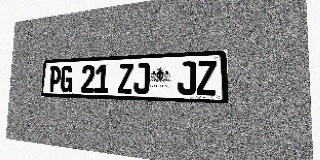1: (94, 64, 109, 93)
2: (81, 65, 95, 93)
G: (60, 66, 73, 92)
J: (177, 61, 196, 95), (133, 63, 150, 94)
P: (49, 66, 61, 92)
Z: (197, 60, 217, 96), (118, 63, 134, 94)
